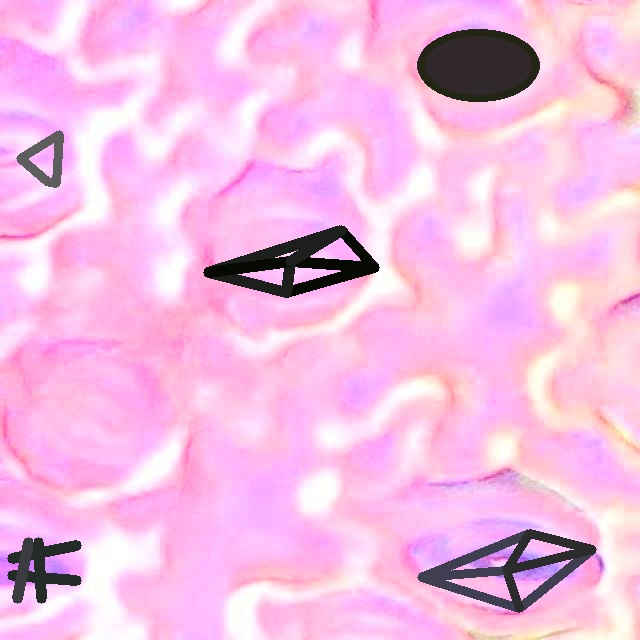close: (203, 225, 378, 297)
open: (417, 529, 596, 612), (418, 29, 539, 101), (8, 537, 81, 603), (16, 130, 60, 186)
